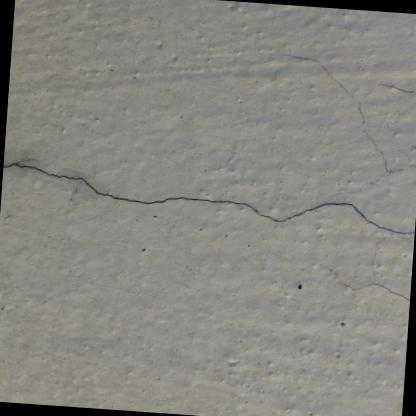crack: (2, 163, 415, 235)
